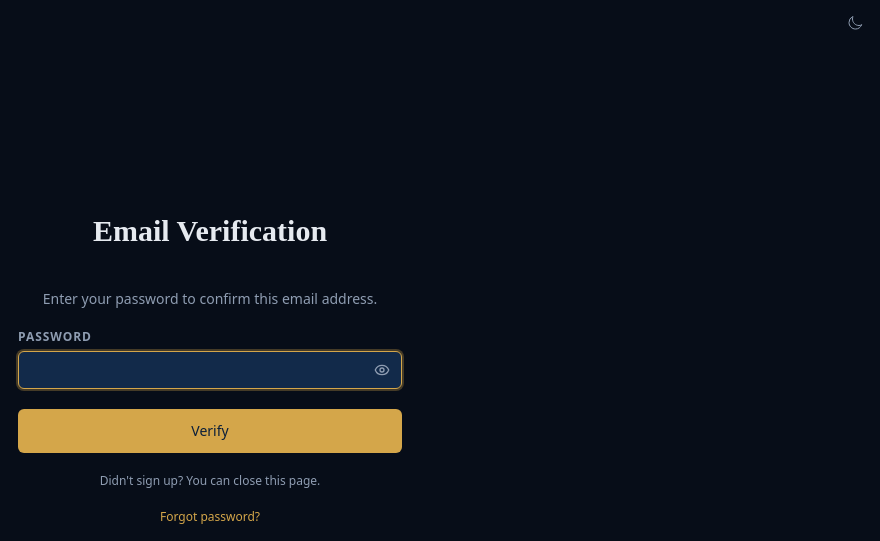
Scenario: verify-email page, password confirmation › a generic invalid-token 400 on resubmit is the final screen
Type "pw-pw-pw-1" into the password field labelled "Password". click: coordinates (210, 370)
box: [18,351,402,389]
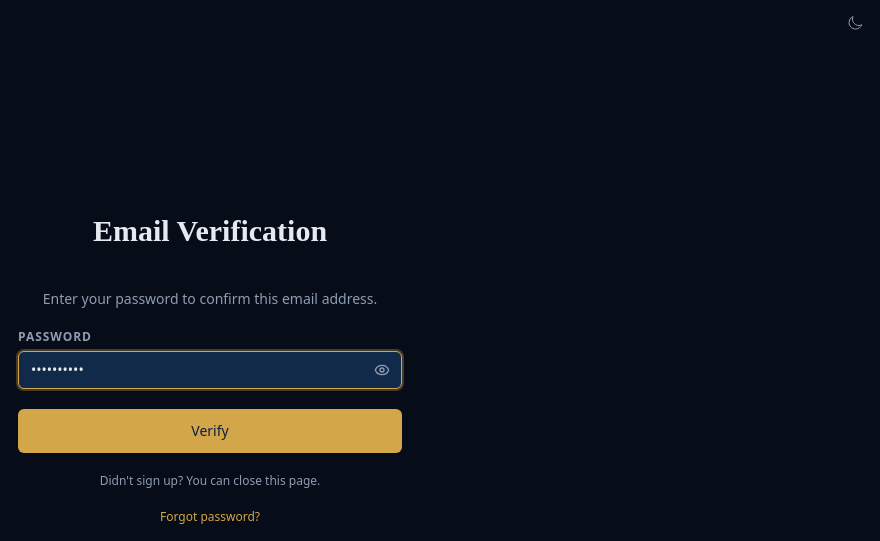
Click the button "Verify". click: coordinates (210, 431)
box: [18,409,402,453]
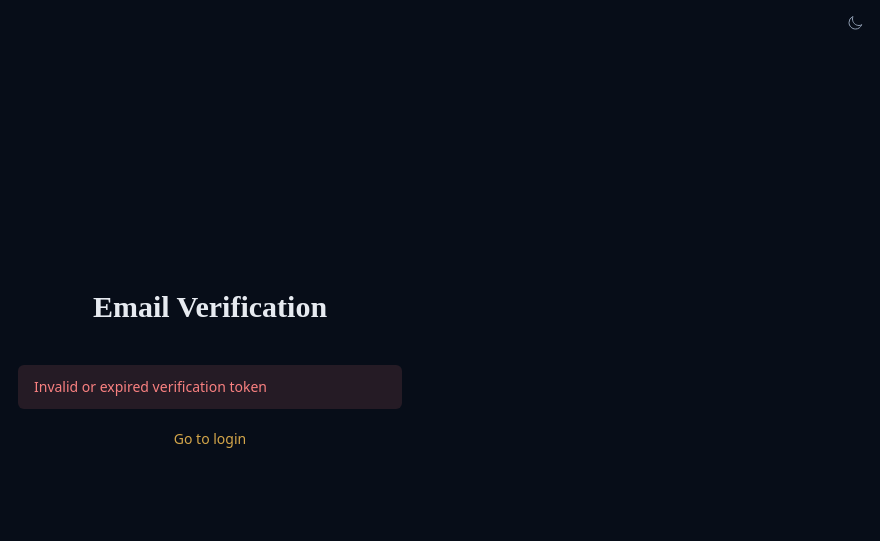
Check: the text "Invalid or expired verification token" is shown, box [18,365,402,409]
Check: the text labelled "password" is gone
